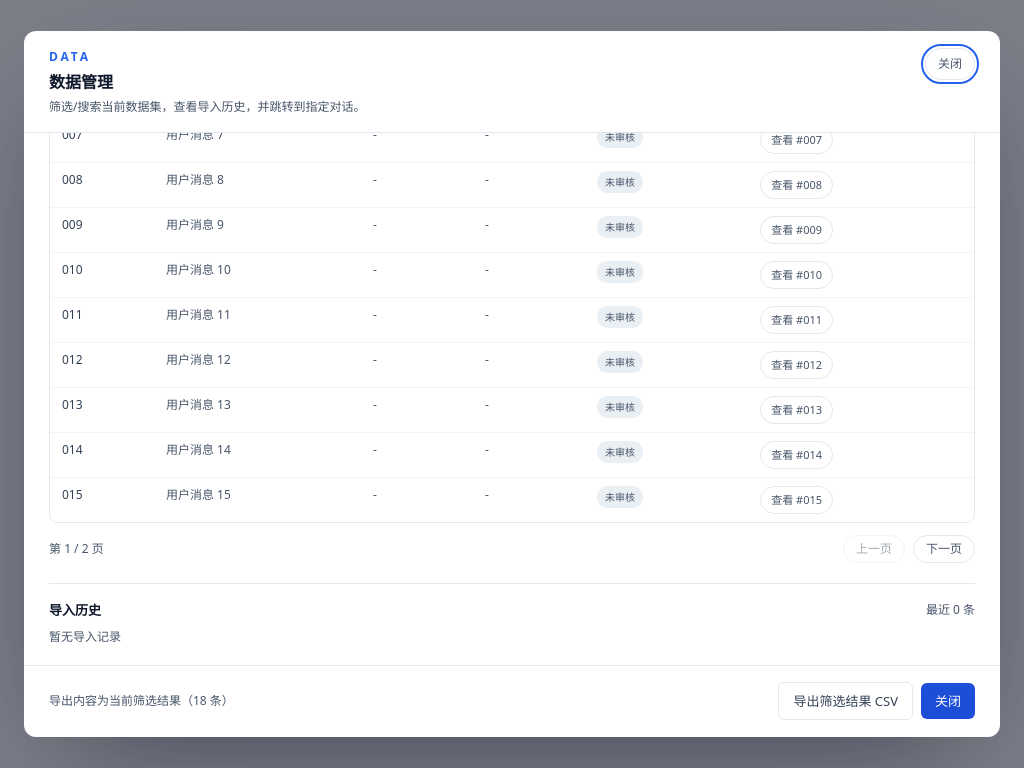
Test: DataManagerPanel 分页与跳转 › 超过每页 15 条 → 下一页可用，页码同步
(page scrolled)
Expected: the text "第 1 / 2 页" is shown, [49,540,104,558]
Expected: the button "上一页" is disabled, [843,535,905,563]
Click the button "下一页": (944, 549) [913,535,975,563]
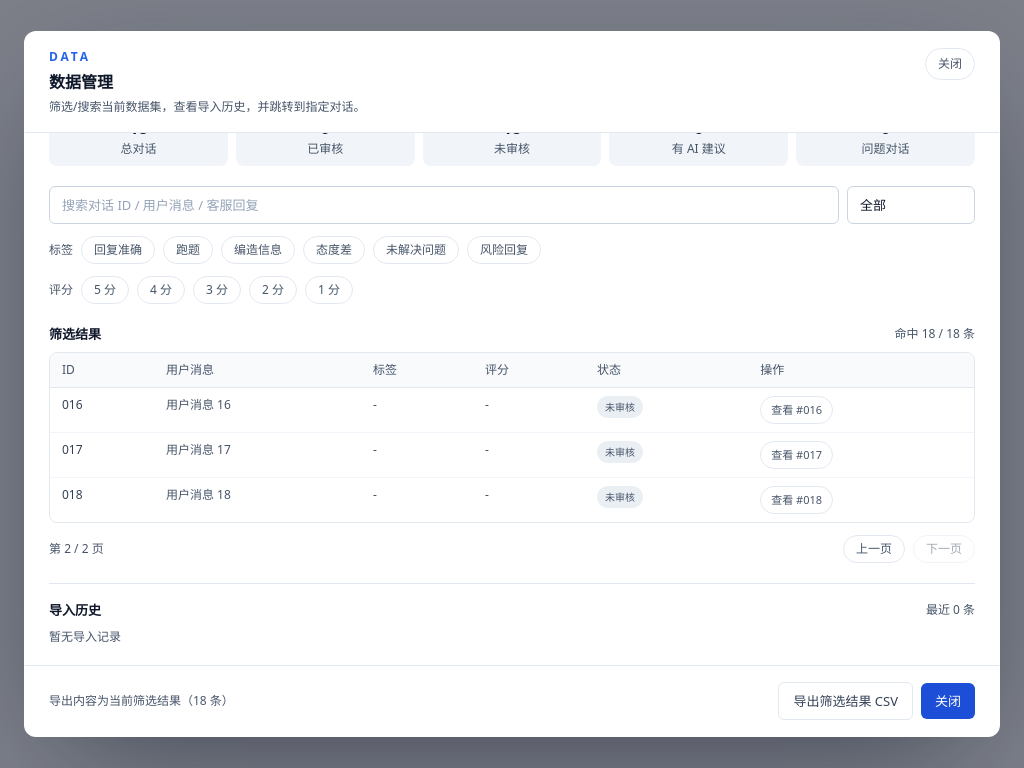
Expected: the text "第 2 / 2 页" is shown, [49,540,104,558]
Expected: the button "下一页" is disabled, [913,535,975,563]
